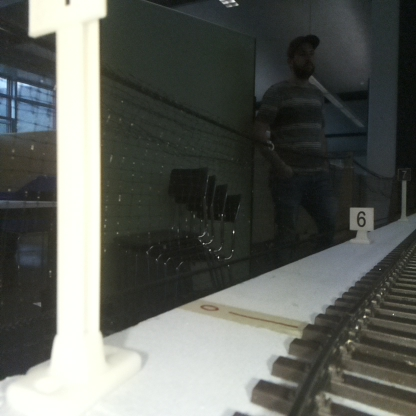white-stop-6: (349, 208, 373, 243)
